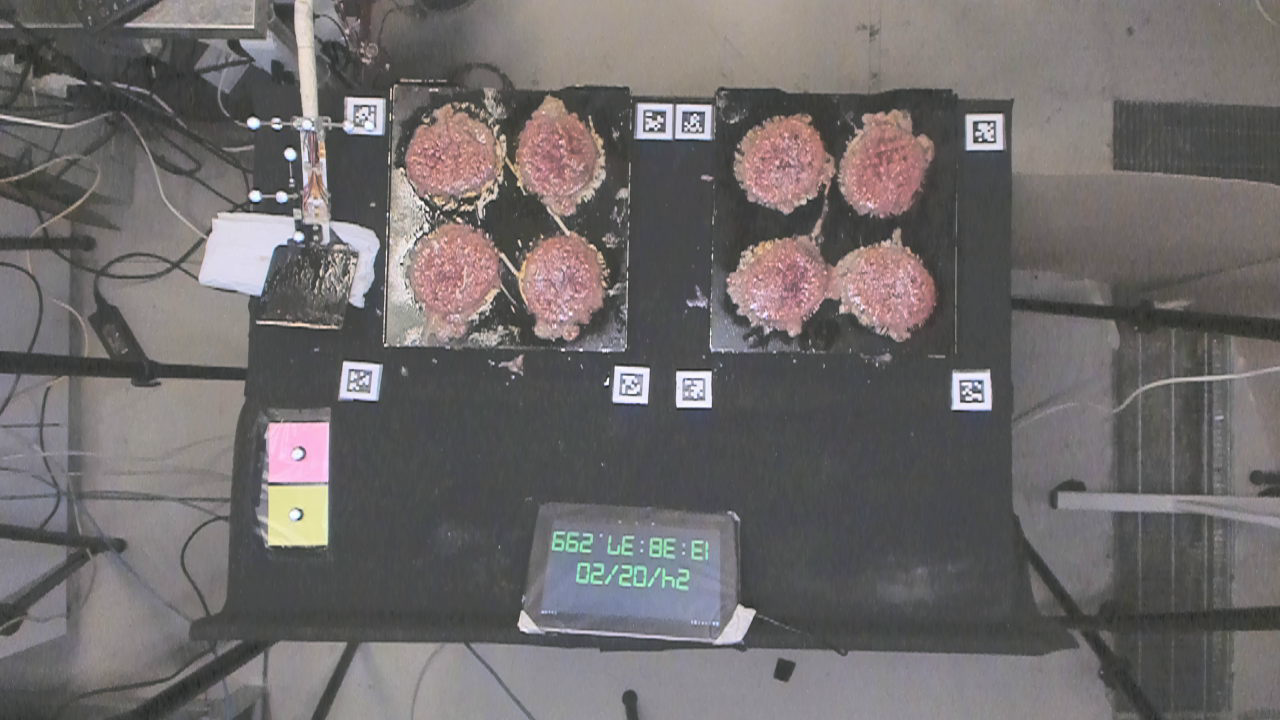hamburger: (842, 237, 935, 341), (401, 226, 498, 322), (731, 233, 824, 332), (404, 110, 501, 202), (836, 122, 928, 216), (513, 112, 605, 202), (523, 240, 611, 326), (740, 120, 825, 207)
marker: (265, 420, 333, 484)
